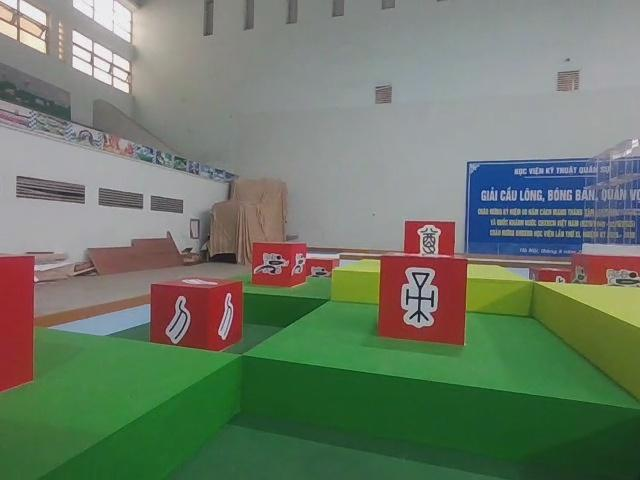R1: (247, 237, 310, 290)
R2 Fake: (402, 218, 457, 263)
R2 Real: (373, 248, 471, 351), (145, 274, 247, 353)
